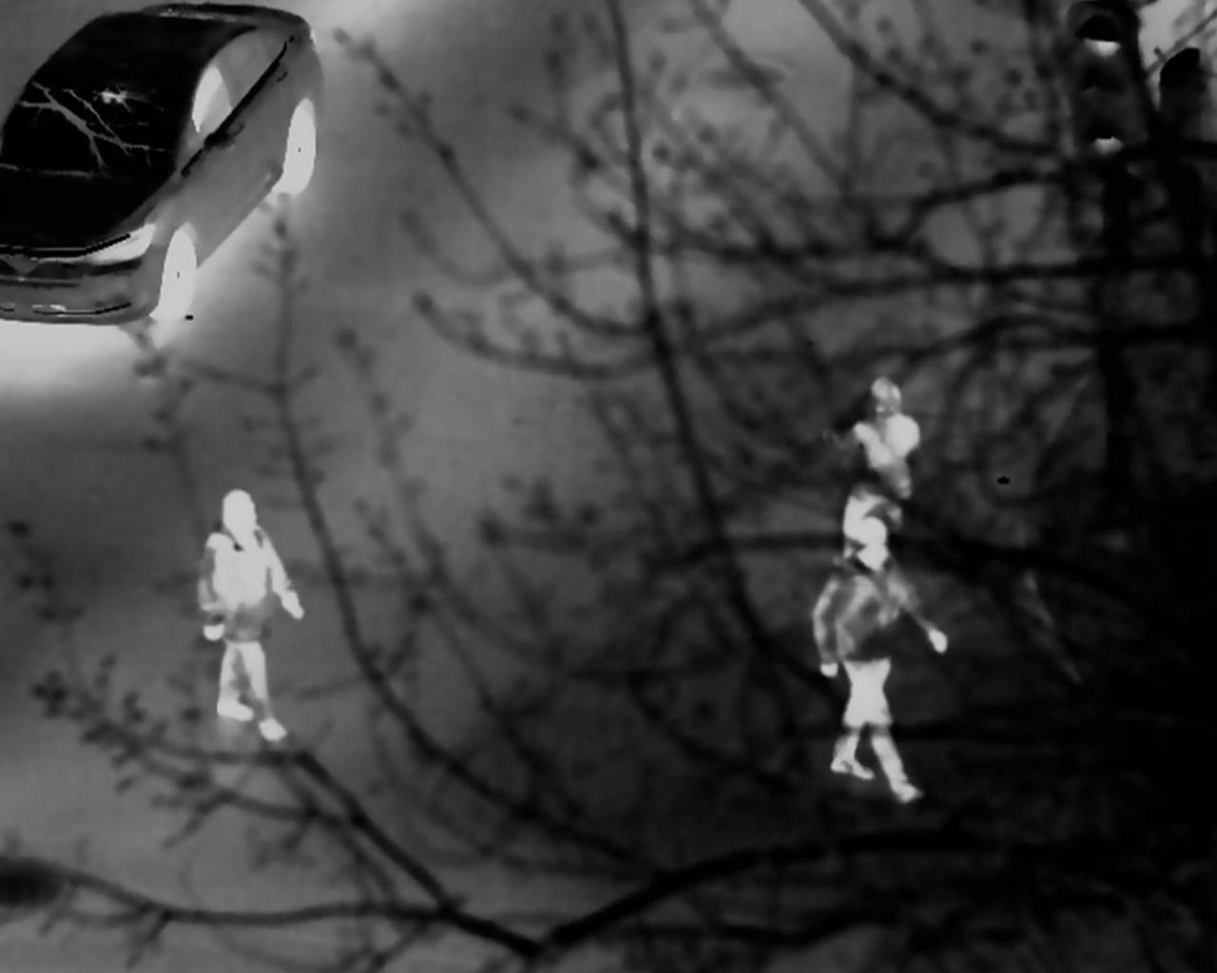person: (809, 523, 940, 784), (187, 483, 308, 744), (843, 369, 940, 533)
